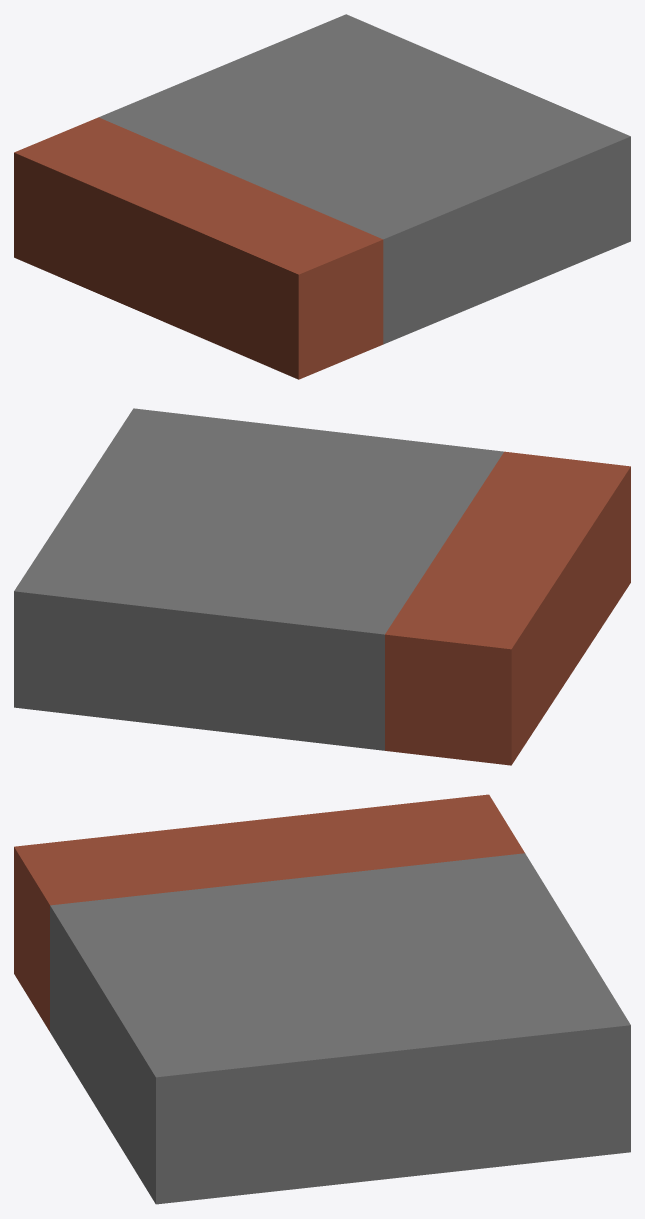
The model's file is Matchbox.glb.
3 renders of one model, top to bottom at view 1: azimuth 30°, elevation 25°; view 2: azimuth 150°, elevation 25°; view 3: azimuth 270°, elevation 25°, orthographic. The views are drawn at different scales.
Visible parts, largest first — view 1: Matchbox; view 2: Matchbox; view 3: Matchbox.
Part boxes in pixels (<box>): Matchbox: <box>14,14,630,379</box>; Matchbox: <box>14,408,630,765</box>; Matchbox: <box>14,794,630,1204</box>.
Size of the model in its own units: 0.0778 by 0.0163 by 0.0717.
Materials: 2 (2 with a texture image).
